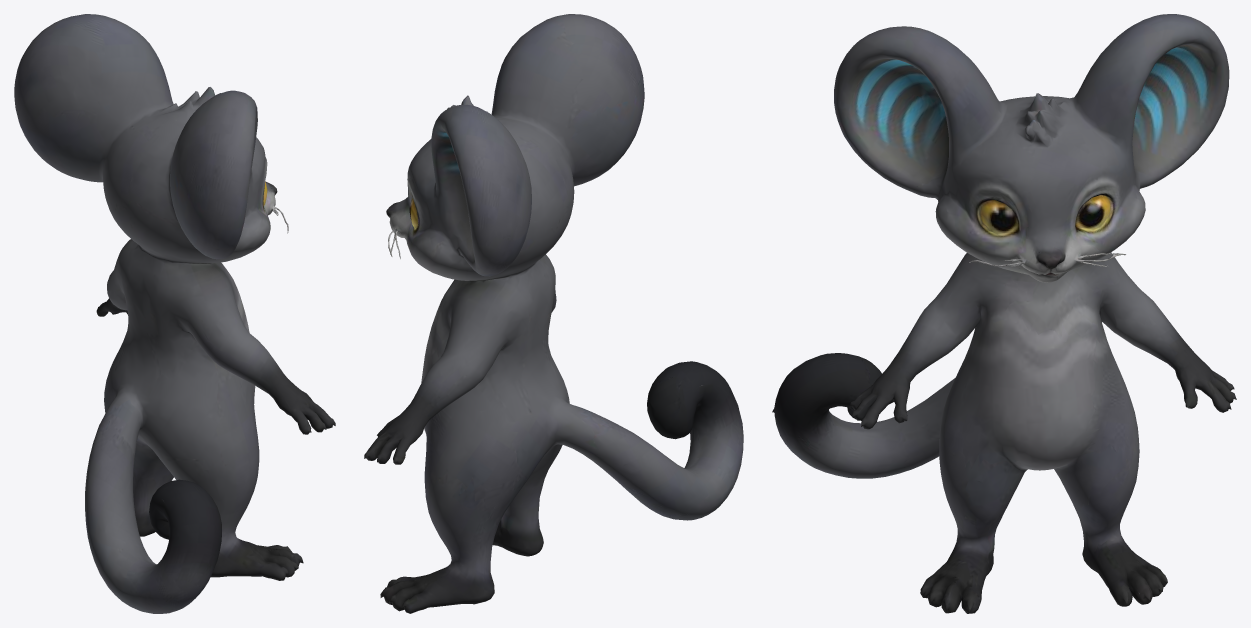
The model's file is 500042818-static-p1.glb.
3 renders of one model, left to right at view 1: azimuth 30°, elevation 25°; view 2: azimuth 150°, elevation 25°; view 3: azimuth 270°, elevation 25°, orthographic. The views are drawn at different scales.
Parts seen in each view (by area): view 1: tripo_node_638c7dff-0493-46e5-8369-6becd5d08ca8; view 2: tripo_node_638c7dff-0493-46e5-8369-6becd5d08ca8; view 3: tripo_node_638c7dff-0493-46e5-8369-6becd5d08ca8.
Part boxes in pixels (x1,y1,x2,y2): tripo_node_638c7dff-0493-46e5-8369-6becd5d08ca8: (14,14,335,613); tripo_node_638c7dff-0493-46e5-8369-6becd5d08ca8: (364,14,743,613); tripo_node_638c7dff-0493-46e5-8369-6becd5d08ca8: (772,14,1236,613).
Size of the model in its own units: 0.15 by 0.3 by 0.2329.
Materials: 1 (1 with a texture image).
